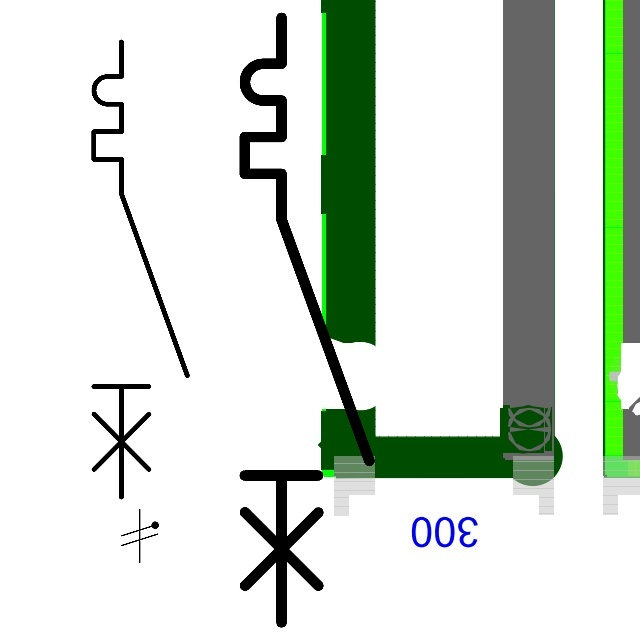interruptor_termomagnetico: (229, 2, 384, 638), (82, 30, 199, 509)
